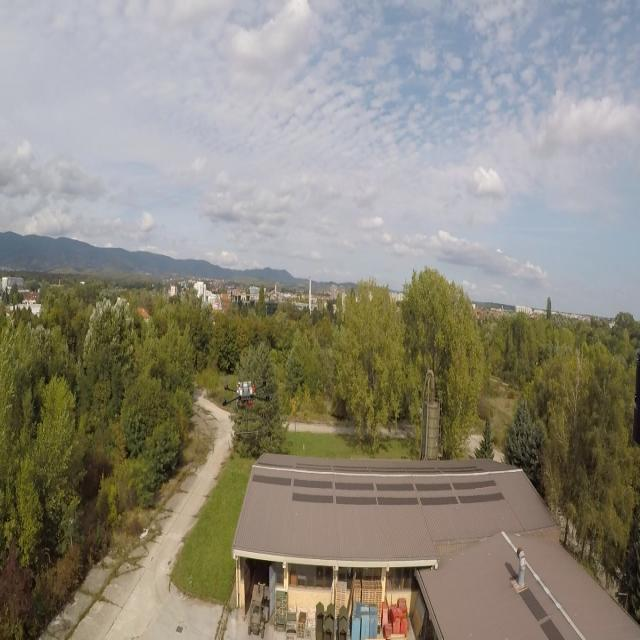UAV: (220, 374, 272, 434)
